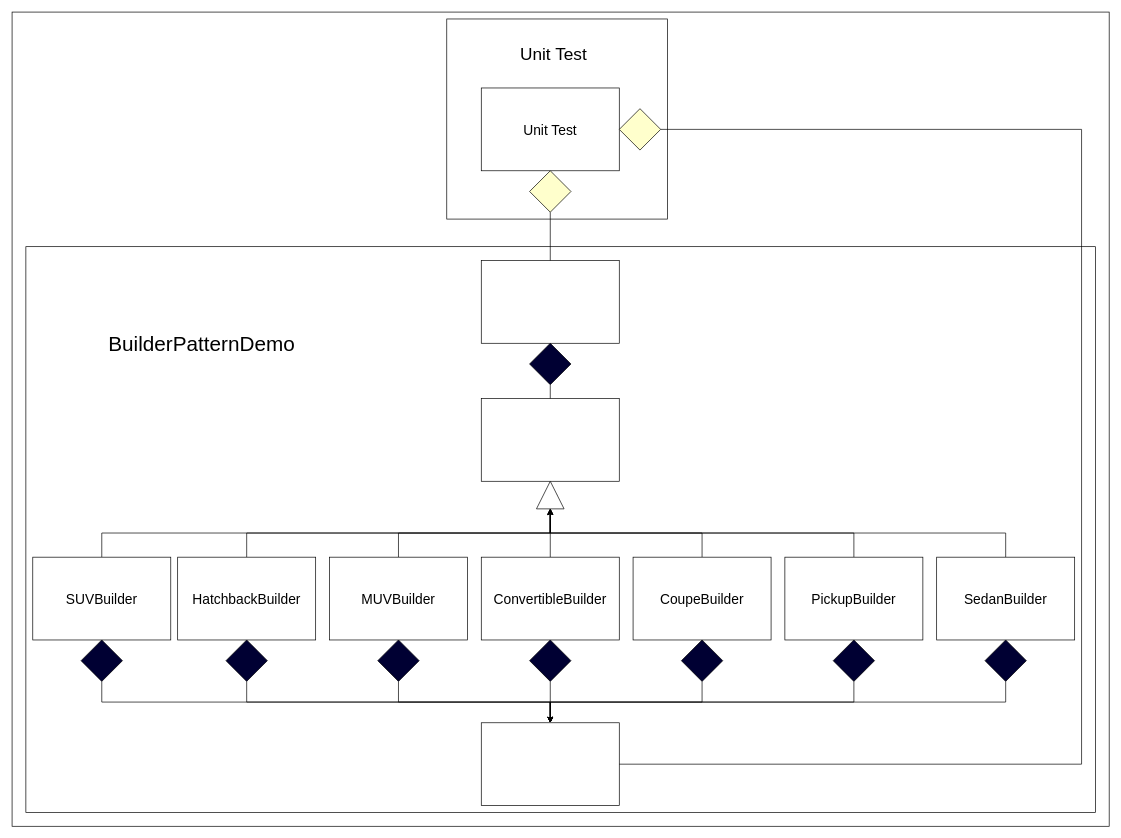
This 1121x838 diagram has some shape labels left out. The shapes that lost their labels are listed below. From the top down, each one's centre as x and y in pixels, then its label:
the point at 550,301: Director
the point at 550,439: IBuilder
the point at 550,764: CarProduct
